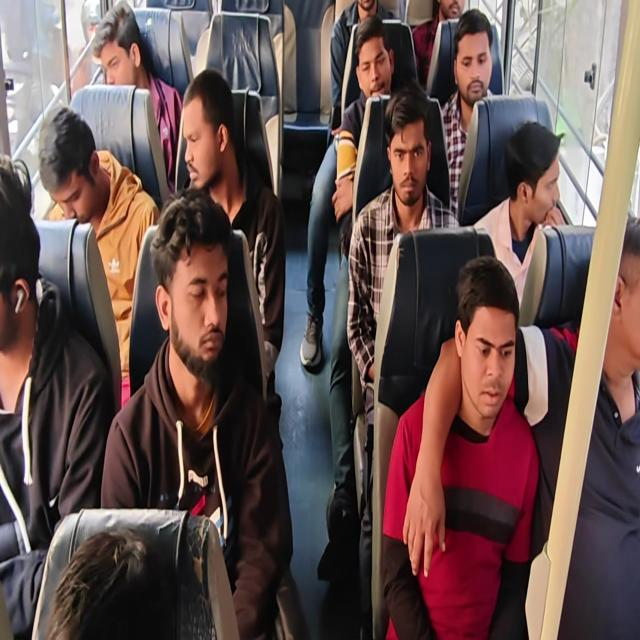person: (39, 539, 230, 640), (146, 175, 236, 378), (383, 73, 451, 243), (456, 257, 520, 427), (2, 143, 39, 380), (172, 72, 246, 188), (596, 200, 640, 384), (43, 105, 114, 209), (508, 111, 567, 226), (82, 0, 148, 100), (455, 10, 503, 108), (352, 16, 402, 108), (437, 0, 478, 28), (341, 0, 384, 18)
